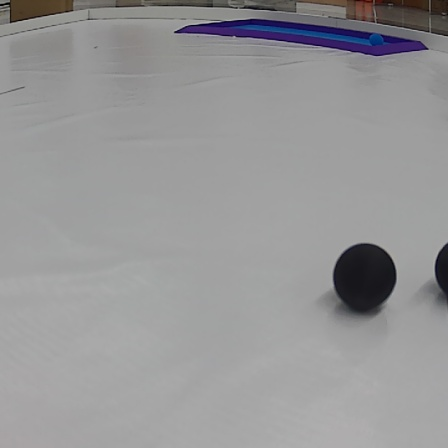black: (330, 240, 400, 314), (430, 241, 448, 299)
blue: (369, 33, 384, 46)
blue_aim: (175, 17, 427, 59)
